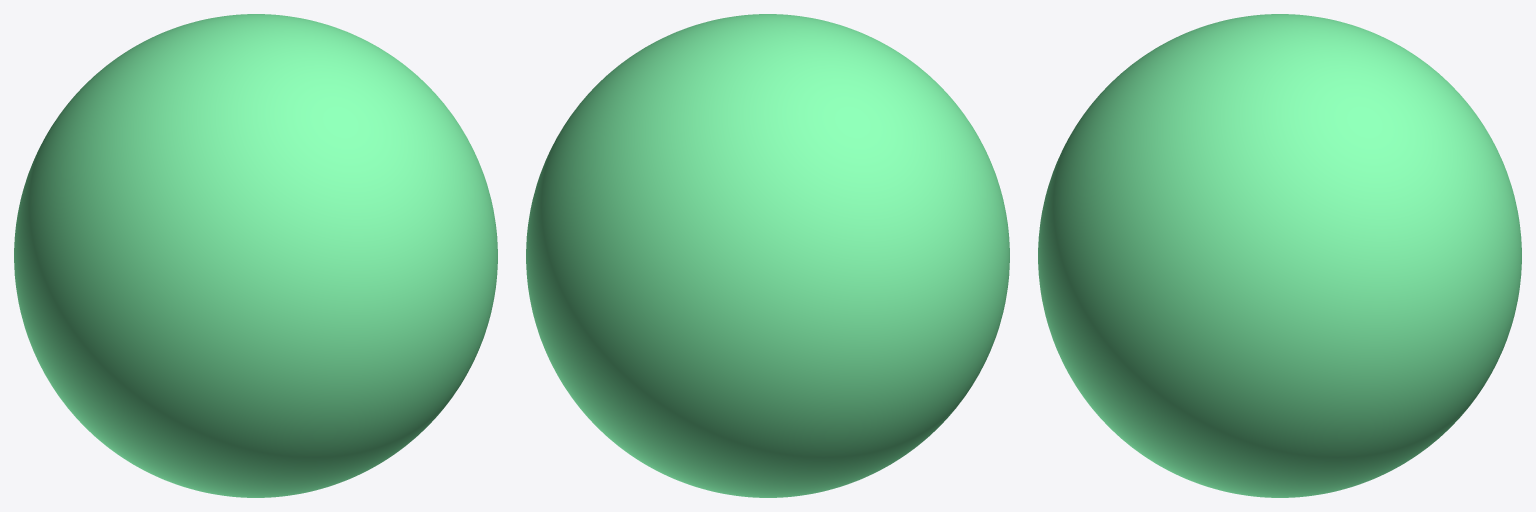
3 renders of one model, left to right at view 1: azimuth 30°, elevation 25°; view 2: azimuth 150°, elevation 25°; view 3: azimuth 270°, elevation 25°, orthographic.
Visible parts, largest first — view 1: ALGAE (GE-25501); view 2: ALGAE (GE-25501); view 3: ALGAE (GE-25501).
Boxes of the visible parts, <box> form: ALGAE (GE-25501): <box>14,14,497,497</box>; ALGAE (GE-25501): <box>526,14,1009,497</box>; ALGAE (GE-25501): <box>1038,14,1521,497</box>.
Bounding box in the file's own units: 0.4063 × 0.4064 × 0.4062.
